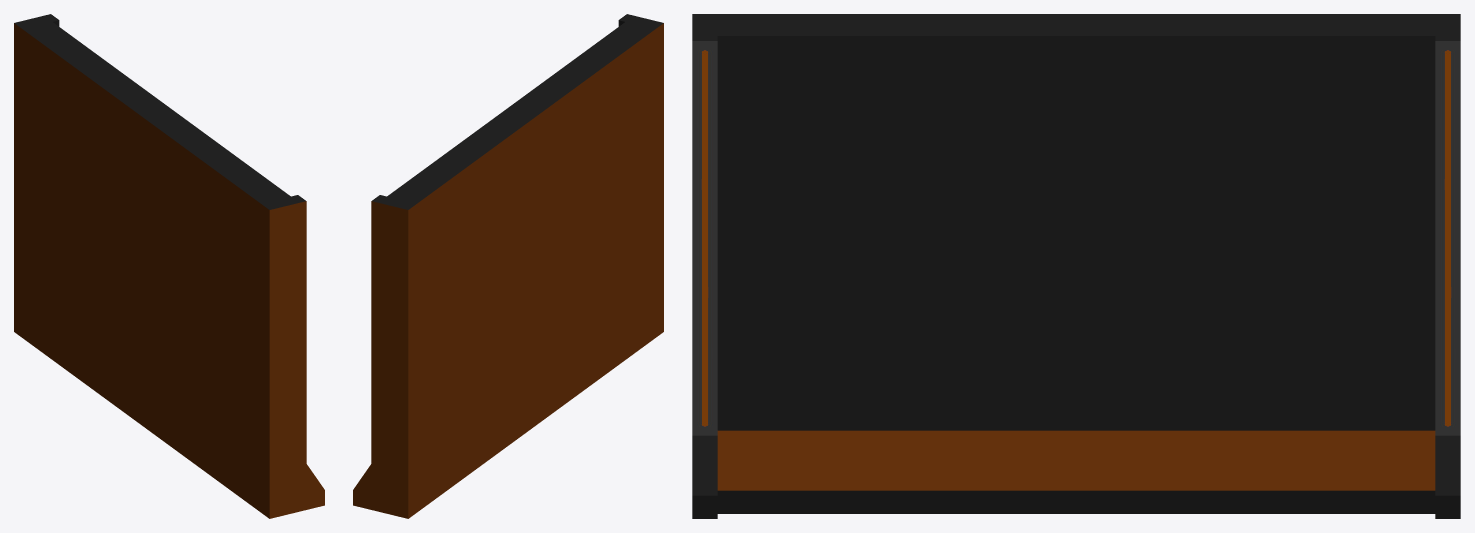
File: wall2.fbx
3 renders of one model, left to right at view 1: azimuth 30°, elevation 25°; view 2: azimuth 150°, elevation 25°; view 3: azimuth 270°, elevation 25°, orthographic. The views are drawn at different scales.
Visible parts, largest first — view 1: Cube; view 2: Cube; view 3: Cube.
Boxes of the visible parts, x1=… form: Cube: x1=14, y1=14, x2=324, y2=518; Cube: x1=353, y1=14, x2=663, y2=518; Cube: x1=692, y1=14, x2=1460, y2=518.
Size of the model in its own units: 150 by 800 by 1200.
Materials: 4 (2 with a texture image).
